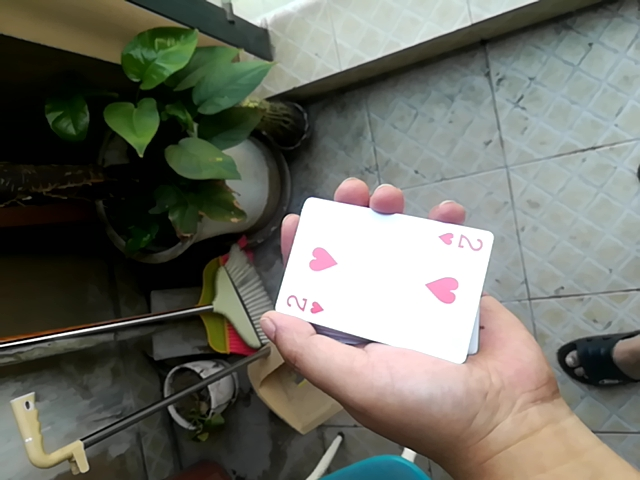hx 2: (272, 188, 489, 358)
